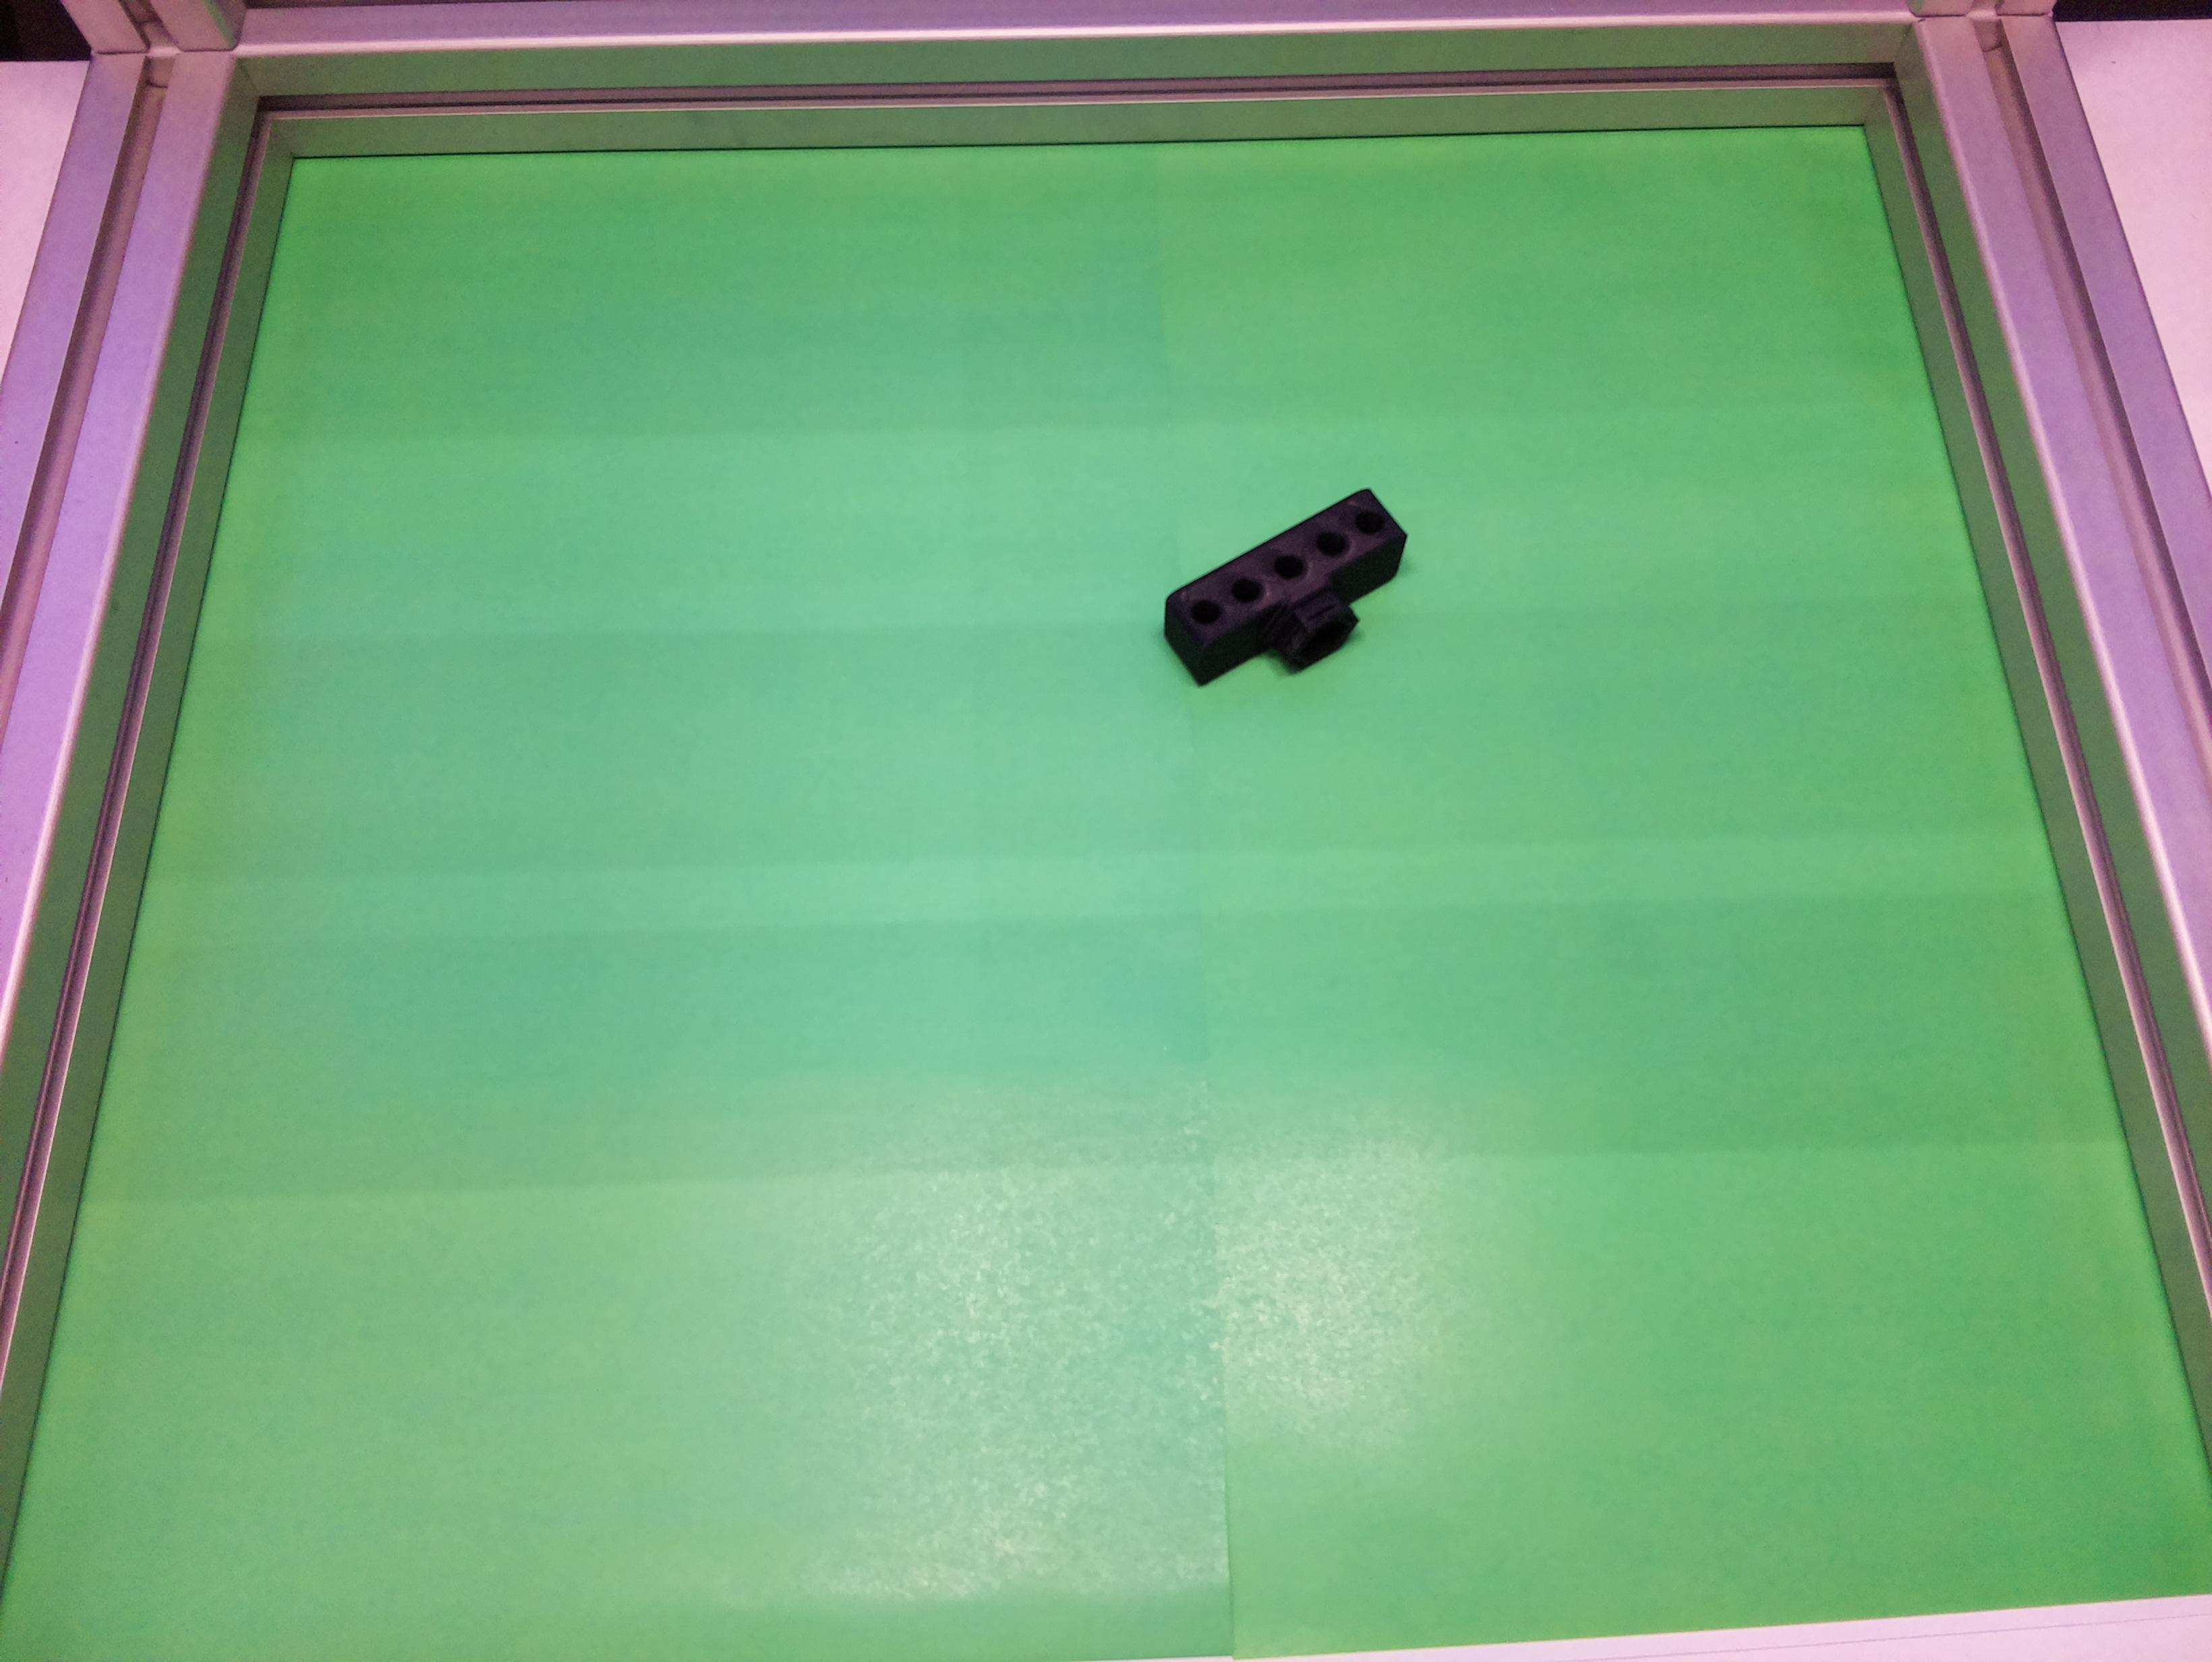bit_holder: (1149, 478, 1439, 721)
